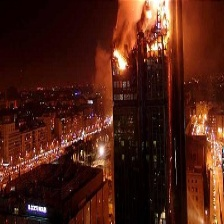fire: (111, 1, 171, 73)
